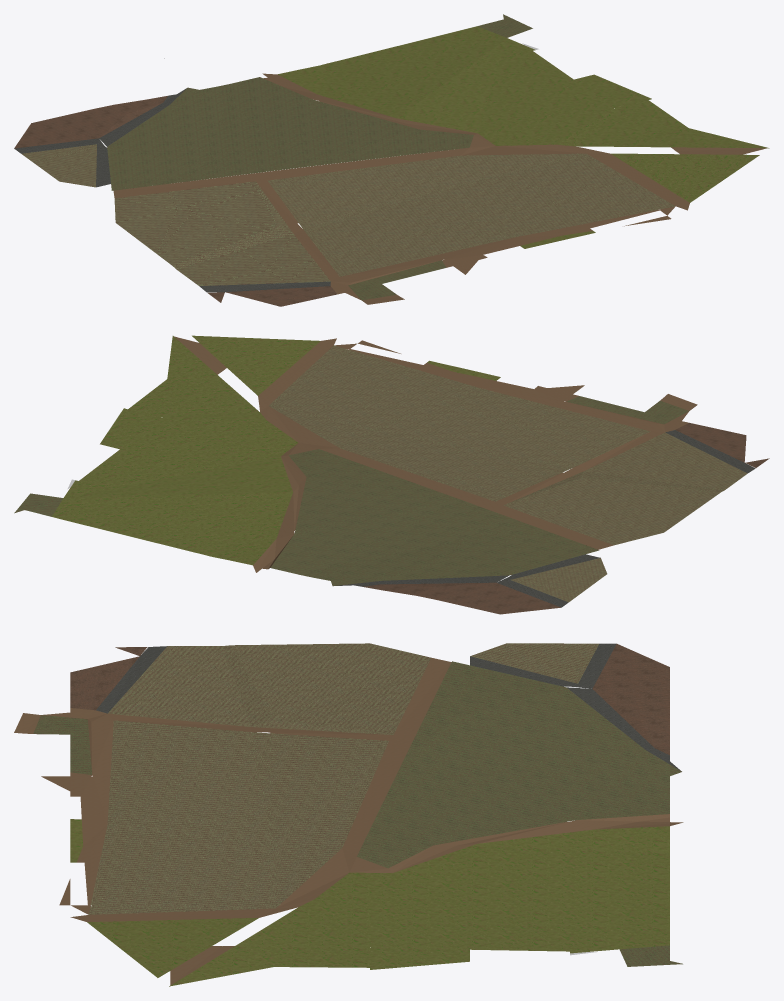
The model's file is TerrenoSoldadoSinTexturas1.fbx.
3 renders of one model, top to bottom at view 1: azimuth 30°, elevation 25°; view 2: azimuth 150°, elevation 25°; view 3: azimuth 270°, elevation 25°, orthographic. The views are drawn at different scales.
Visible parts, largest first — view 1: lagua.002; view 2: lagua.002; view 3: lagua.002.
Boxes of the visible parts, x1,y1,x2,y2 form: lagua.002: (14,14,769,306); lagua.002: (14,335,769,614); lagua.002: (14,643,683,986).
Size of the model in its own units: 40035 by 877 by 37813.
